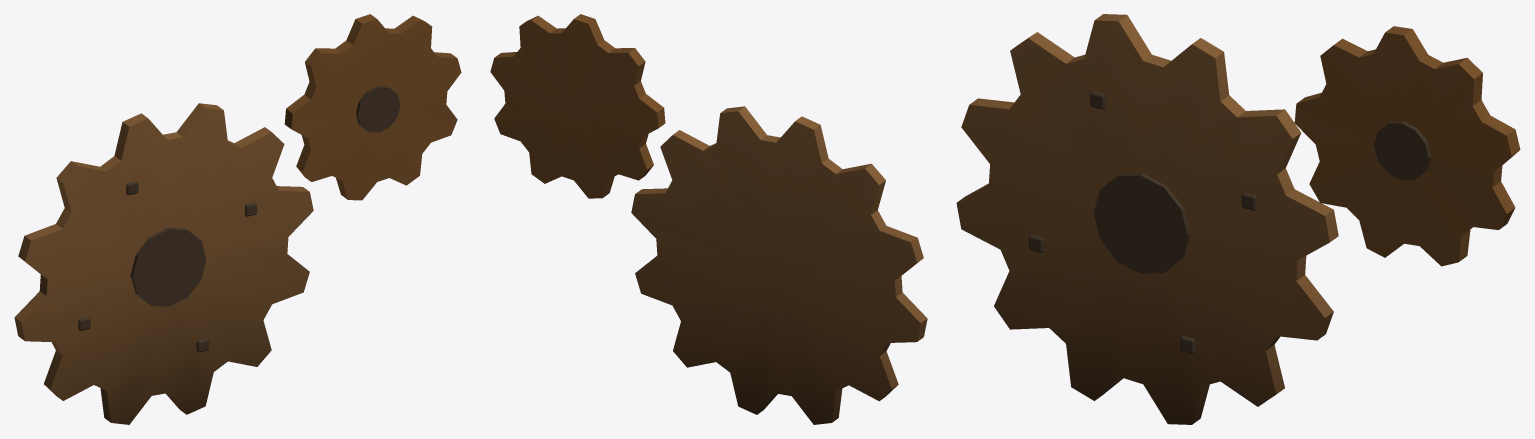
Rendered from furn_gear_wall.glb.
3 views of the same model, side by side, from view 1: azimuth 30°, elevation 25°; view 2: azimuth 150°, elevation 25°; view 3: azimuth 330°, elevation 25° (orthographic). The views are drawn at different scales.
Parts seen in each view (by area): view 1: furn_gear_wall_main; view 2: furn_gear_wall_main; view 3: furn_gear_wall_main.
Part boxes in pixels (<box>): furn_gear_wall_main: <box>14,14,461,424</box>; furn_gear_wall_main: <box>490,14,927,424</box>; furn_gear_wall_main: <box>956,14,1520,424</box>.
Size of the model in its own units: 1.84 by 1.41 by 0.085.
